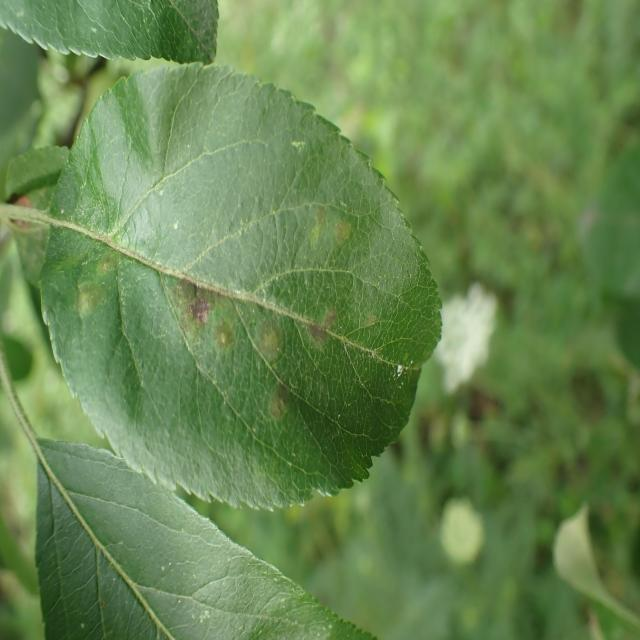scab: (47, 156, 426, 455)
